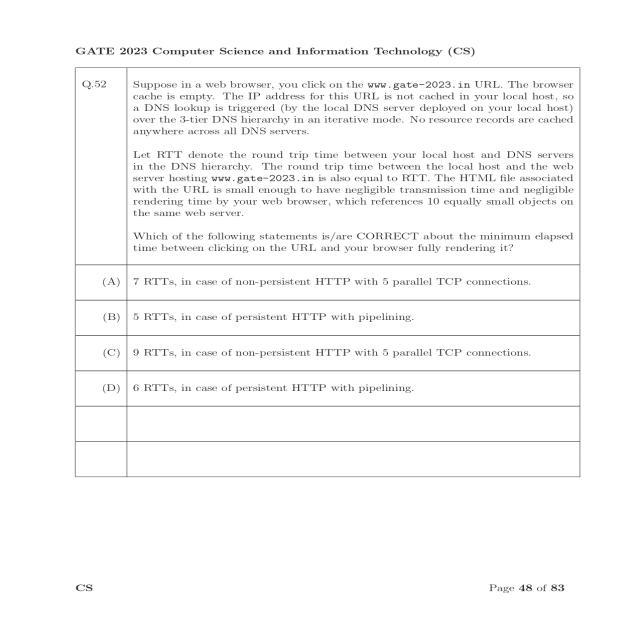Answer_Block: (76, 265, 583, 408)
Question_Answer_Block: (76, 69, 583, 408)
Question_Block: (76, 68, 583, 266)
Question_Paper_Area: (76, 69, 583, 476)
